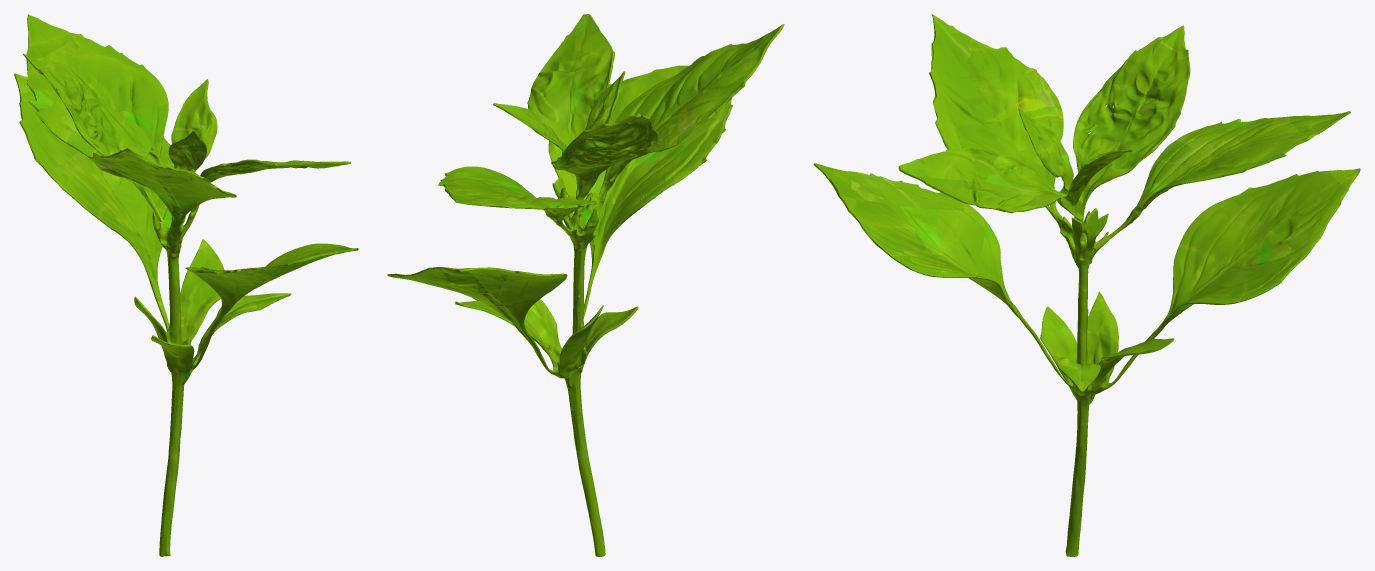
Rendered from sweetbasil.glb.
The picture shows the model from 3 angles, left to right: view 1: azimuth 30°, elevation 25°; view 2: azimuth 150°, elevation 25°; view 3: azimuth 270°, elevation 25°; orthographic projection. The views are drawn at different scales.
Parts seen in each view (by area): view 1: tripo_node_ae05a3e3-8a70-45b5-a88a-56e9ead2fa22; view 2: tripo_node_ae05a3e3-8a70-45b5-a88a-56e9ead2fa22; view 3: tripo_node_ae05a3e3-8a70-45b5-a88a-56e9ead2fa22.
Part boxes in pixels (x1,y1,x2,y2): tripo_node_ae05a3e3-8a70-45b5-a88a-56e9ead2fa22: [14, 14, 358, 556]; tripo_node_ae05a3e3-8a70-45b5-a88a-56e9ead2fa22: [387, 14, 784, 556]; tripo_node_ae05a3e3-8a70-45b5-a88a-56e9ead2fa22: [813, 14, 1360, 556].
Size of the model in its own units: 0.5088 by 0.986 by 1.
Materials: 1 (1 with a texture image).
